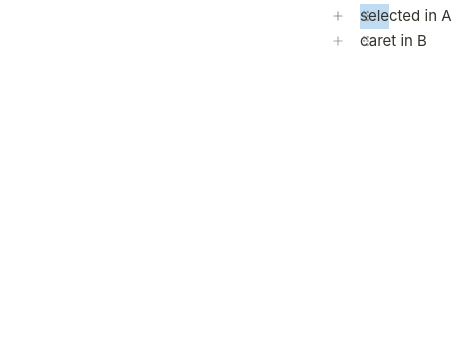
it: native editable context-menu passthrough › ignores a stale selection in another editable when right-clicking a collapsed caret
Right-click the field labelled "caret in B" at point(393, 40), box [360,31,427,50]
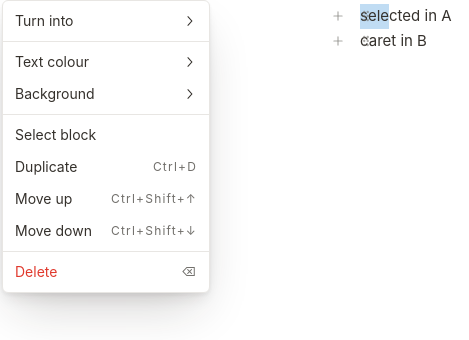
Now the menu item "Duplicate Ctrl+D" is shown, box [15,158,197,175]
